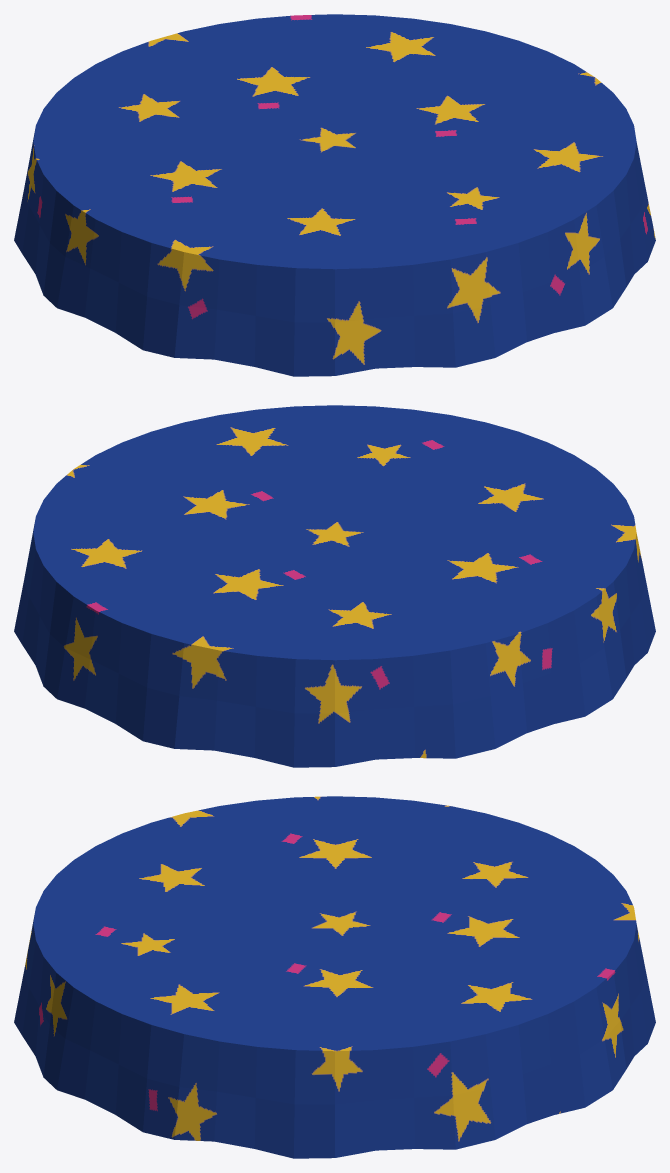
File: party_cloth_round_stars.glb
The picture shows the model from 3 angles, top to bottom: view 1: azimuth 30°, elevation 25°; view 2: azimuth 150°, elevation 25°; view 3: azimuth 270°, elevation 25°; orthographic projection.
Visible parts, largest first — view 1: party_cloth_round_stars; view 2: party_cloth_round_stars; view 3: party_cloth_round_stars.
Boxes of the visible parts, x1,y1,x2,y2 form: party_cloth_round_stars: [14, 14, 655, 376]; party_cloth_round_stars: [14, 405, 655, 767]; party_cloth_round_stars: [14, 796, 655, 1158].
Size of the model in its own units: 1.29 by 0.2284 by 1.29.
1 material, 1 textured.
